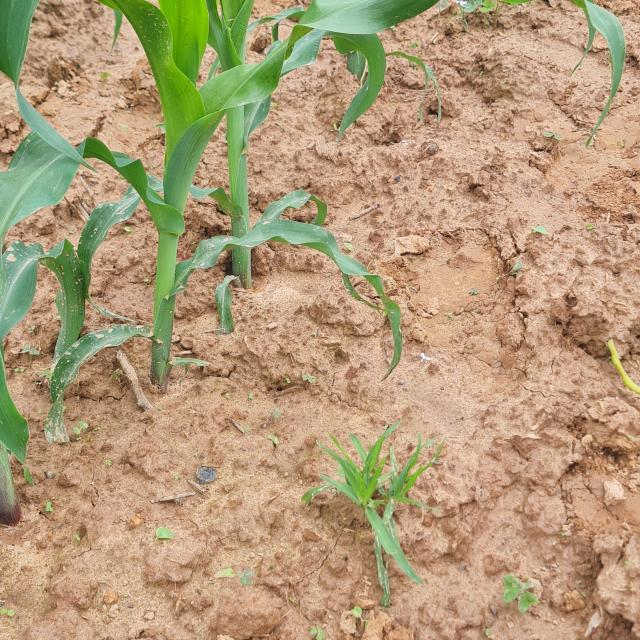maize: (0, 0, 480, 366)
weed: (311, 425, 451, 599)
